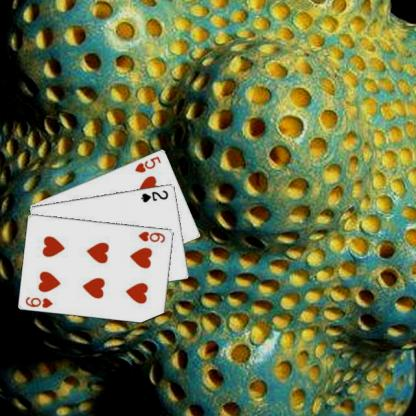2S: (138, 188, 170, 204)
5H: (132, 154, 163, 174)
6H: (136, 228, 166, 244), (22, 294, 53, 309)
